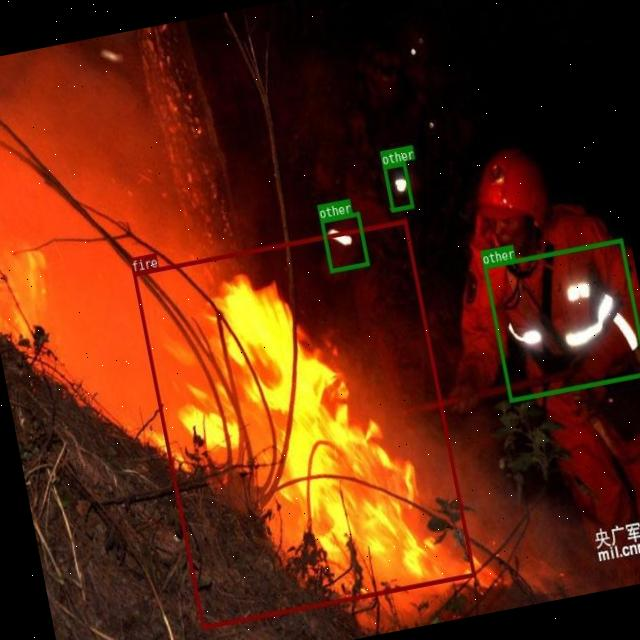fire: (132, 219, 474, 629)
